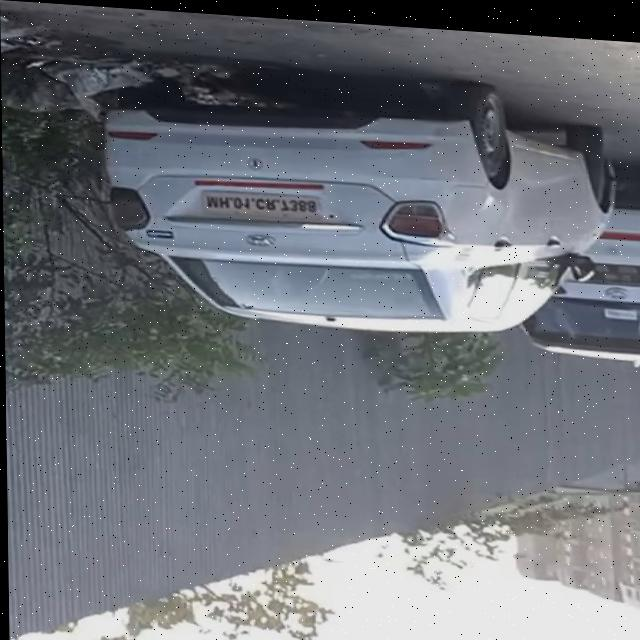plate: (199, 185, 320, 222), (590, 254, 640, 278)
